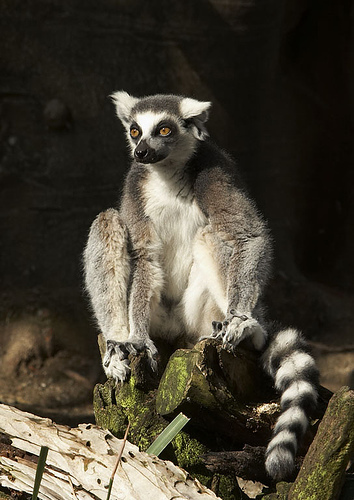cat: (81, 87, 323, 482)
